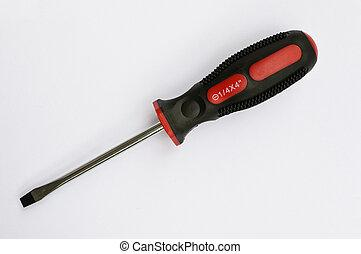Screwdriver: (11, 20, 326, 223)
